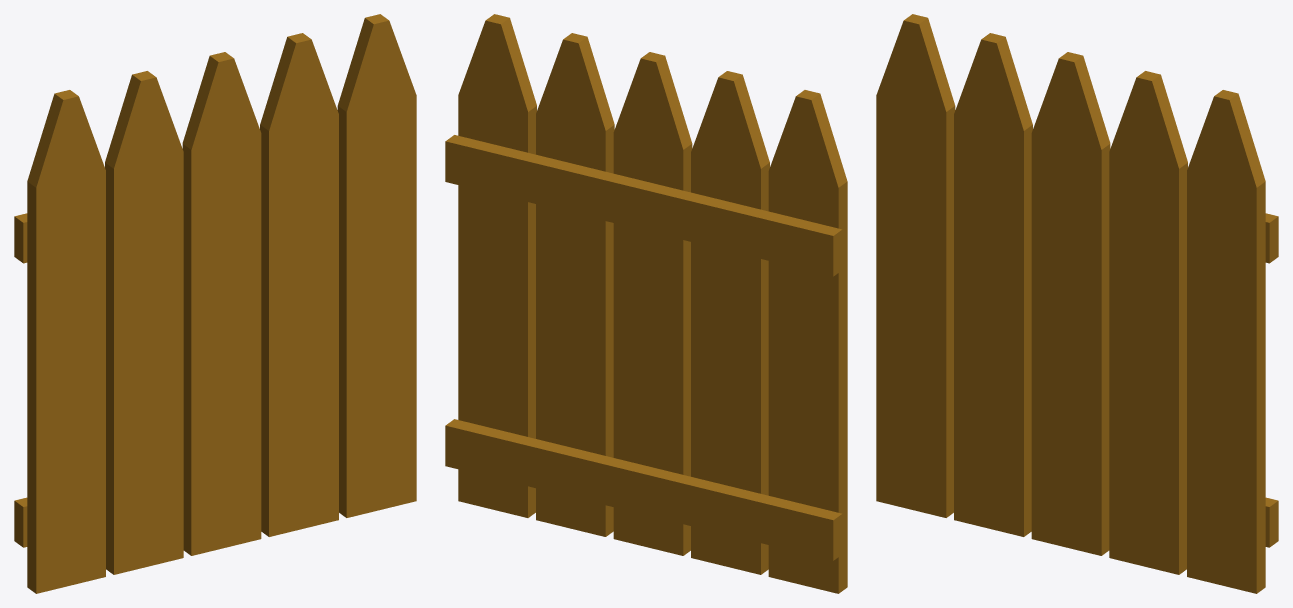
File: WoodenFence (2).fbx
3 renders of one model, left to right at view 1: azimuth 30°, elevation 25°; view 2: azimuth 150°, elevation 25°; view 3: azimuth 330°, elevation 25°, orthographic.
Parts seen in each view (by area): view 1: Cube.010; view 2: Cube.010; view 3: Cube.010.
Part boxes in pixels (x1=…): Cube.010: x1=14, y1=14, x2=416, y2=593; Cube.010: x1=445, y1=14, x2=847, y2=593; Cube.010: x1=876, y1=14, x2=1278, y2=593.
Size of the model in its own units: 100 by 120 by 8.
